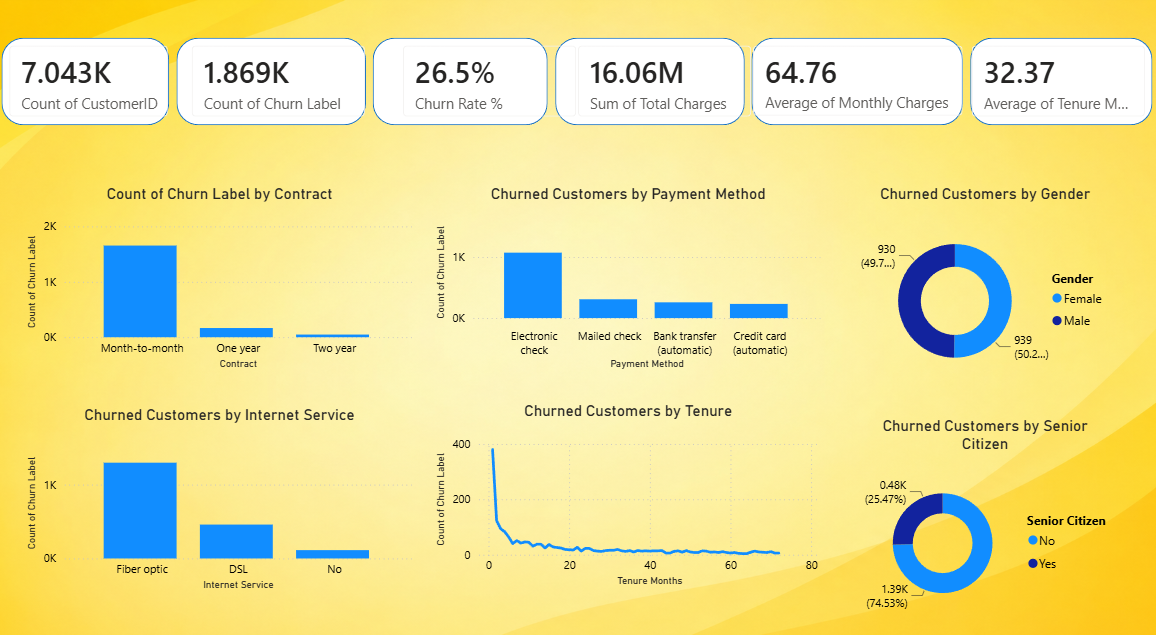

This screenshot's page, from the dashboard's own definition file:
{"tool":"powerbi","page":{"name":"Page 1","canvas":[1280,720],"ordinal":0},"visuals":[{"type":"shape","box":[8,48,184,96],"z":0},{"type":"cardVisual","fields":{"Data":["Count(Telco_Churn.CustomerID)"]},"box":[0,40,208,112],"z":1000},{"type":"shape","box":[200,48,208,96],"z":2000},{"type":"shape","box":[416,48,192,96],"z":3000},{"type":"shape","box":[616,48,208,96],"z":4000},{"type":"cardVisual","fields":{"Data":["CountNonNull(Telco_Churn.Churn Label)"]},"box":[200,40,224,112],"z":5000},{"type":"cardVisual","fields":{"Data":["Telco_Churn.Churn Rate %"]},"box":[432,40,224,112],"z":6000},{"type":"cardVisual","fields":{"Data":["Sum(Telco_Churn.Total Charges)"]},"box":[624,40,224,112],"z":7000},{"type":"shape","box":[832,48,232,96],"z":8000},{"type":"cardVisual","fields":{"Data":["Avg(Telco_Churn.Monthly Charges)"]},"box":[816,40,264,112],"z":9000},{"type":"shape","box":[1072,48,200,96],"z":10000},{"type":"cardVisual","fields":{"Data":["Avg(Telco_Churn.Tenure Months)"]},"box":[1056,40,224,112],"z":11000},{"type":"clusteredColumnChart","fields":{"Category":["Telco_Churn.Contract"],"Y":["CountNonNull(Telco_Churn.Churn Label)"]},"box":[32,208,432,208],"z":12000},{"type":"clusteredColumnChart","title":"Churned Customers by Internet Service","fields":{"Category":["Telco_Churn.Internet Service"],"Y":["CountNonNull(Telco_Churn.Churn Label)"]},"box":[32,452,432,208],"z":13000},{"type":"clusteredColumnChart","title":"Churned Customers by Payment Method","fields":{"Category":["Telco_Churn.Payment Method"],"Y":["CountNonNull(Telco_Churn.Churn Label)"]},"box":[480,208,432,208],"z":14000},{"type":"lineChart","title":"Churned Customers by Tenure","fields":{"Category":["Telco_Churn.Tenure Months"],"Y":["CountNonNull(Telco_Churn.Churn Label)"]},"box":[480,448,432,208],"z":15000},{"type":"donutChart","title":"Churned Customers by Gender","fields":{"Category":["Telco_Churn.Gender"],"Y":["CountNonNull(Telco_Churn.Churn Label)"]},"box":[944,208,288,224],"z":15001},{"type":"donutChart","title":"Churned Customers by Senior Citizen","fields":{"Category":["Telco_Churn.Senior Citizen"],"Y":["CountNonNull(Telco_Churn.Churn Label)"]},"box":[944,464,288,224],"z":15002}]}

Visuals, with their boxes in screenshot pixels (x1, y1, x2, y2), scaled from the page's 1280x720 canvas onto the 1156x635 screenshot:
shape: (x1=7, y1=42, x2=173, y2=127)
cardVisual - Count(Telco_Churn.CustomerID): (x1=0, y1=35, x2=188, y2=134)
shape: (x1=181, y1=42, x2=368, y2=127)
shape: (x1=376, y1=42, x2=549, y2=127)
shape: (x1=556, y1=42, x2=744, y2=127)
cardVisual - CountNonNull(Telco_Churn.Churn Label): (x1=181, y1=35, x2=383, y2=134)
cardVisual - Telco_Churn.Churn Rate %: (x1=390, y1=35, x2=592, y2=134)
cardVisual - Sum(Telco_Churn.Total Charges): (x1=564, y1=35, x2=766, y2=134)
shape: (x1=751, y1=42, x2=961, y2=127)
cardVisual - Avg(Telco_Churn.Monthly Charges): (x1=737, y1=35, x2=975, y2=134)
shape: (x1=968, y1=42, x2=1149, y2=127)
cardVisual - Avg(Telco_Churn.Tenure Months): (x1=954, y1=35, x2=1155, y2=134)
clusteredColumnChart - Telco_Churn.Contract x CountNonNull(Telco_Churn.Churn Label): (x1=29, y1=183, x2=419, y2=367)
"Churned Customers by Internet Service" clusteredColumnChart: (x1=29, y1=399, x2=419, y2=582)
"Churned Customers by Payment Method" clusteredColumnChart: (x1=434, y1=183, x2=824, y2=367)
"Churned Customers by Tenure" lineChart: (x1=434, y1=395, x2=824, y2=579)
"Churned Customers by Gender" donutChart: (x1=853, y1=183, x2=1113, y2=381)
"Churned Customers by Senior Citizen" donutChart: (x1=853, y1=409, x2=1113, y2=607)
